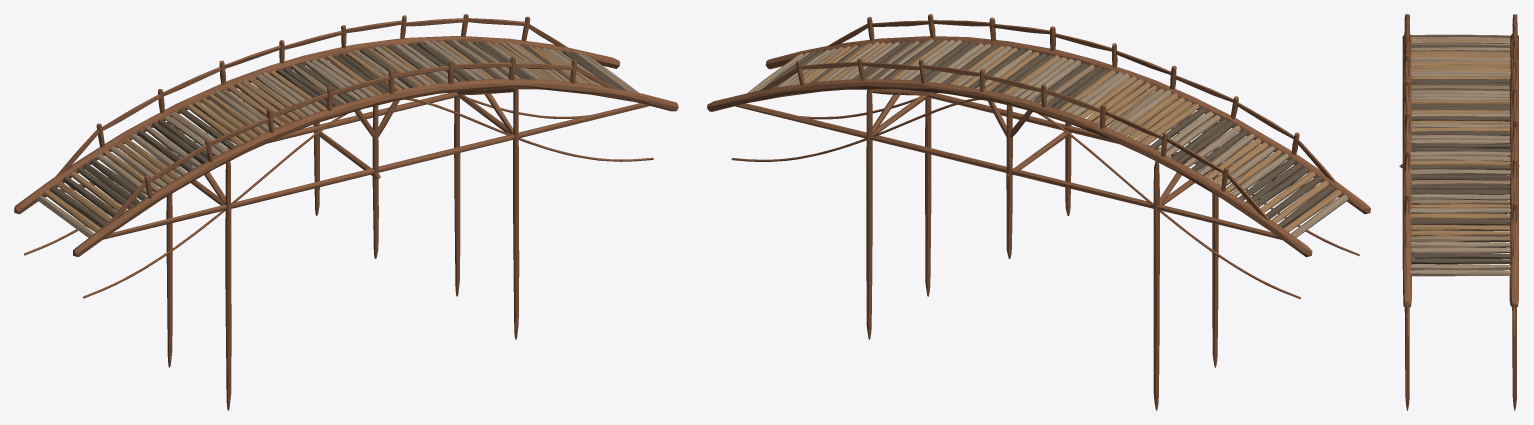
The model's file is bridge.fbx.
3 views of the same model, side by side, from view 1: azimuth 30°, elevation 25°; view 2: azimuth 150°, elevation 25°; view 3: azimuth 270°, elevation 25° (orthographic). The views are drawn at different scales.
Parts seen in each view (by area): view 1: Base_road, Main_ske, Main_stand, Railings, Road_frame, Rope; view 2: Base_road, Main_ske, Main_stand, Railings, Road_frame, Rope; view 3: Base_road, Main_ske, Railings, Main_stand, Rope.
Part boxes in pixels (x1=…): Base_road: x1=37, y1=39, x2=638, y2=237; Main_ske: x1=14, y1=36, x2=678, y2=256; Main_stand: x1=166, y1=89, x2=519, y2=410; Railings: x1=55, y1=14, x2=617, y2=225; Road_frame: x1=44, y1=92, x2=649, y2=239; Rope: x1=24, y1=88, x2=653, y2=298; Base_road: x1=747, y1=38, x2=1348, y2=237; Main_ske: x1=707, y1=36, x2=1370, y2=257; Main_stand: x1=866, y1=89, x2=1218, y2=410; Railings: x1=758, y1=14, x2=1336, y2=221; Road_frame: x1=735, y1=92, x2=1339, y2=239; Rope: x1=731, y1=92, x2=1359, y2=299; Base_road: x1=1410, y1=34, x2=1510, y2=276; Main_ske: x1=1402, y1=33, x2=1518, y2=307; Railings: x1=1404, y1=14, x2=1517, y2=257; Main_stand: x1=1399, y1=164, x2=1519, y2=410; Rope: x1=1406, y1=307, x2=1515, y2=338.
Size of the model in its own units: 20 by 9.54 by 3.78.
